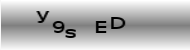9: (51, 20, 65, 35)
D: (110, 16, 126, 30)
E: (95, 19, 107, 34)
s: (63, 28, 77, 39)
y: (34, 10, 52, 24)
